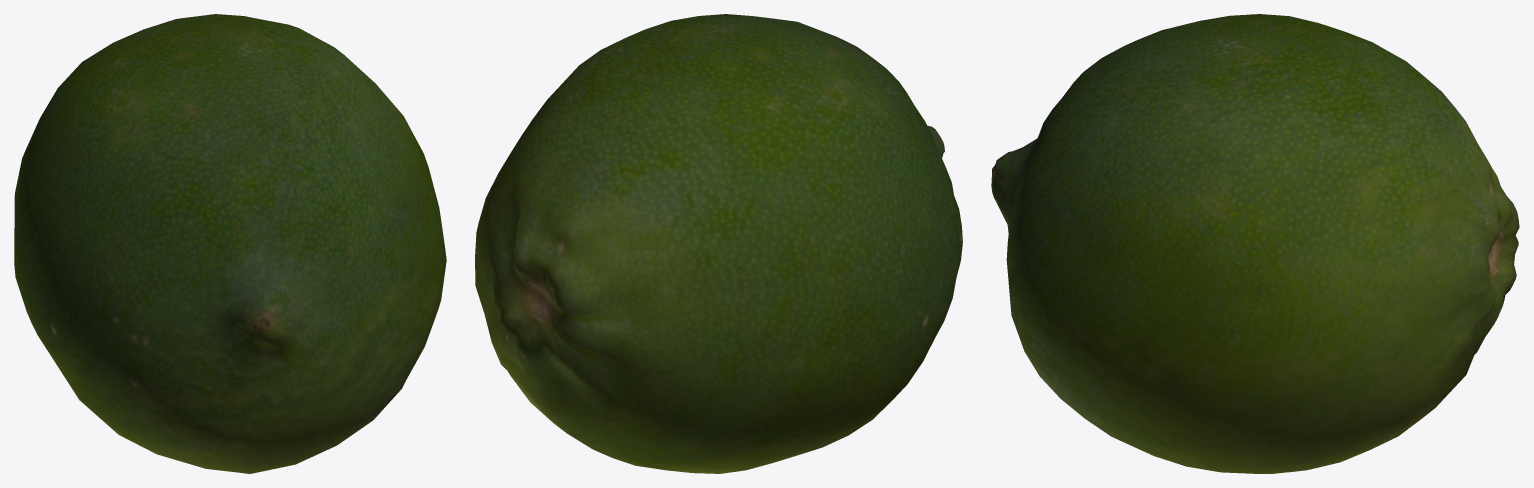
Rendered from lime.glb.
3 views of the same model, side by side, from view 1: azimuth 30°, elevation 25°; view 2: azimuth 150°, elevation 25°; view 3: azimuth 270°, elevation 25° (orthographic). The views are drawn at different scales.
Parts seen in each view (by area): view 1: Lime; view 2: Lime; view 3: Lime.
Boxes of the visible parts, x1,y1,x2,y2 form: Lime: (14, 14, 446, 473); Lime: (475, 14, 962, 473); Lime: (991, 14, 1519, 473).
Bounding box in the file's own units: 0.0482 × 0.049 × 0.0561.
Materials: 1 (1 with a texture image).
